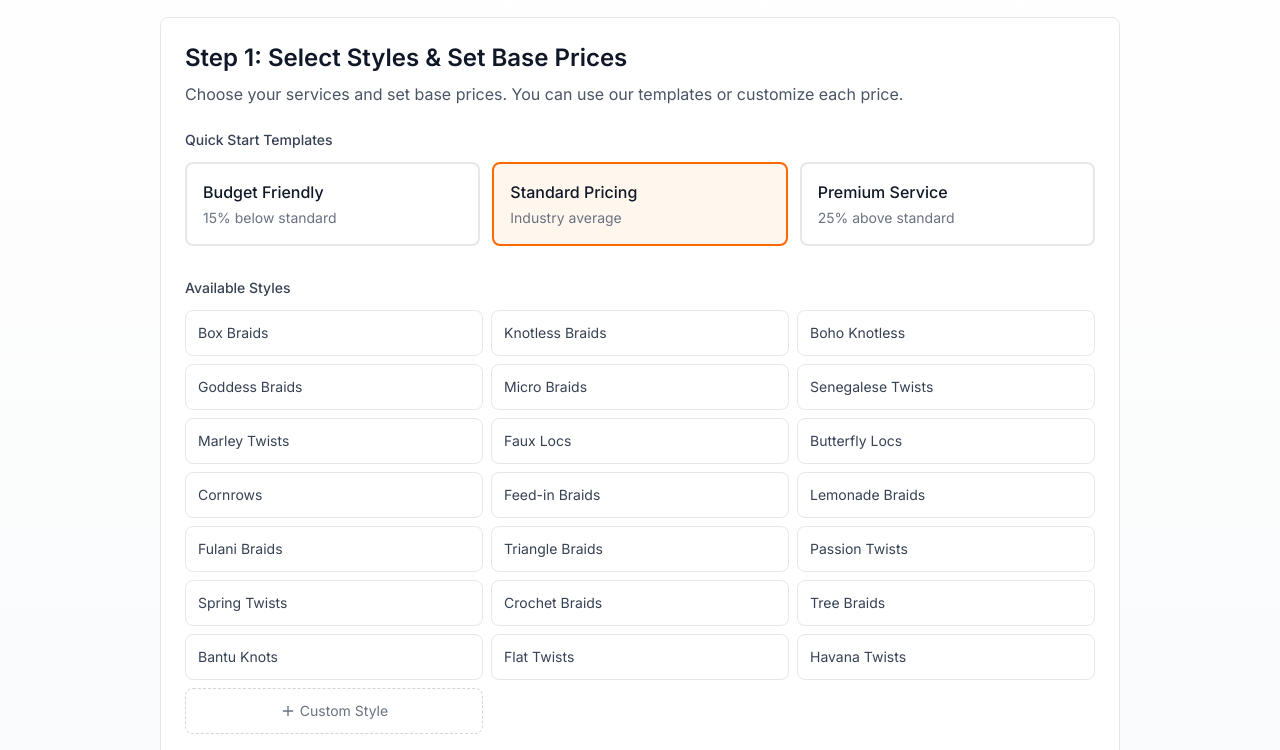
SimplifiedOnboardingWizard › shows correct size pricing logic
Note: Select a style and go to step 2
Click the button "Box Braids" at [233, 332], box [185,310,483,356]
(page scrolled)
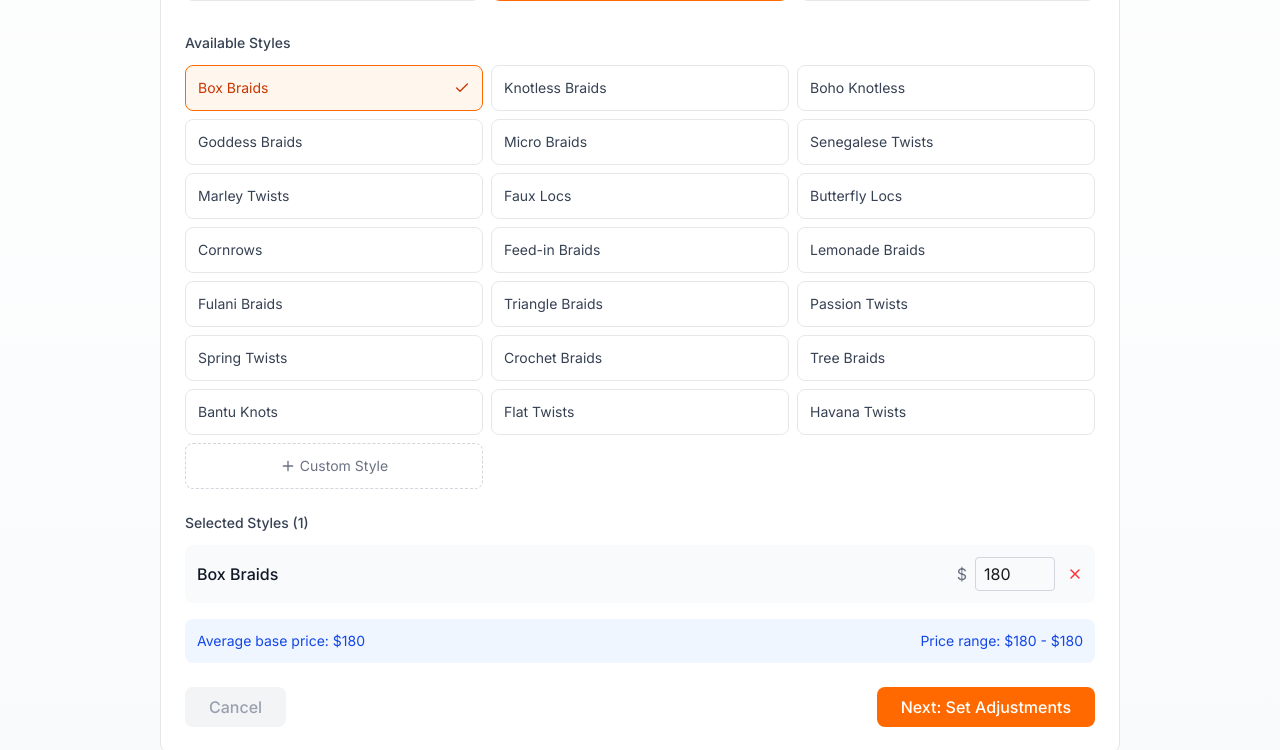
Click the button "Next: Set Adjustments" at [986, 707], box [877,687,1095,727]
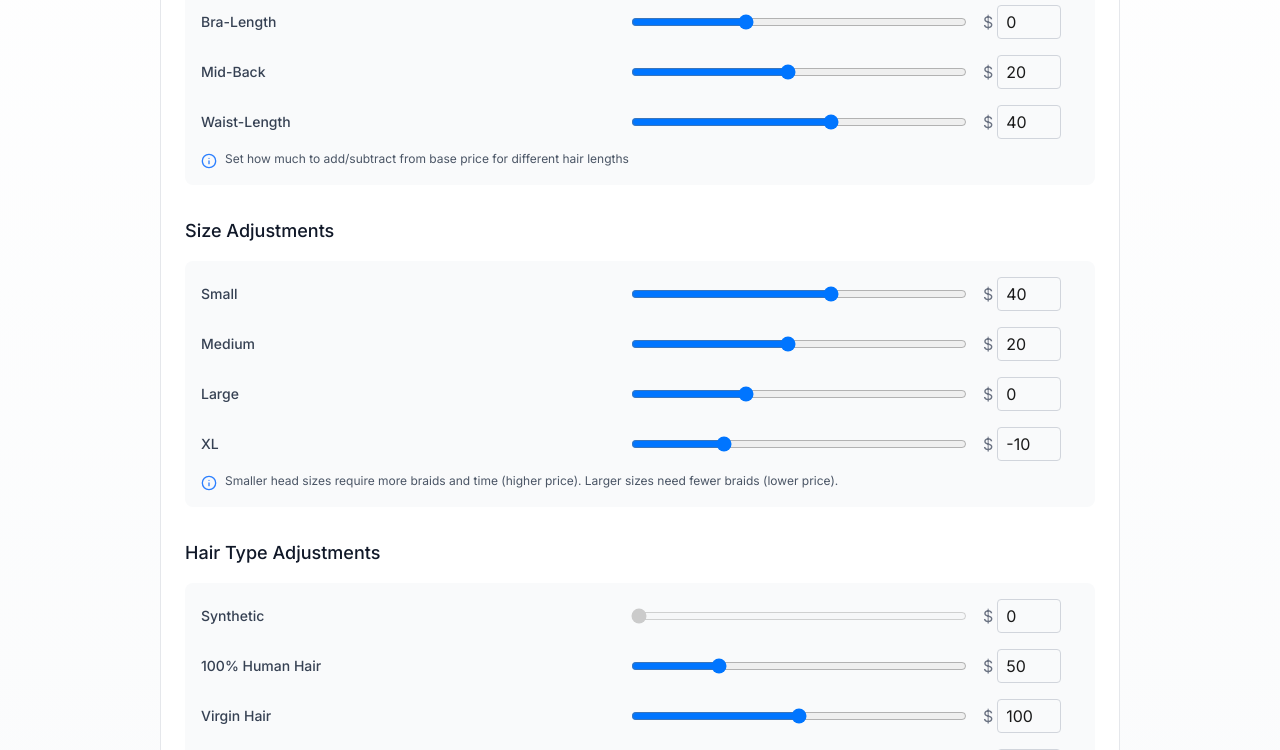
Now the text "Smaller head sizes require more braids" is shown, box [225,473,838,488]
